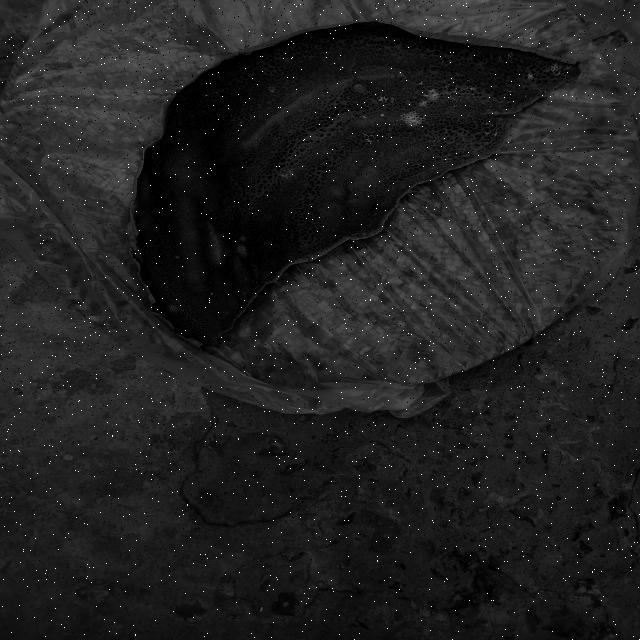injera_mold: (400, 111, 428, 128), (423, 87, 441, 104), (361, 132, 379, 147), (546, 63, 568, 74), (278, 169, 295, 180), (165, 304, 180, 314), (416, 101, 428, 110), (526, 72, 536, 82), (266, 85, 276, 95), (376, 96, 388, 103), (396, 72, 406, 78), (491, 132, 500, 138), (506, 52, 514, 58), (484, 130, 490, 136), (445, 83, 451, 89), (386, 127, 392, 133), (210, 292, 215, 298), (418, 81, 424, 86), (454, 86, 457, 96), (566, 65, 572, 70), (218, 89, 225, 93), (442, 92, 449, 96), (362, 115, 368, 119), (469, 86, 475, 90), (449, 96, 455, 100), (453, 104, 458, 108), (148, 296, 154, 299), (498, 56, 502, 60), (524, 94, 528, 98), (533, 56, 537, 60), (198, 90, 203, 93), (380, 114, 385, 117), (204, 94, 208, 97), (238, 122, 242, 125), (210, 89, 216, 91), (544, 90, 547, 94), (466, 79, 470, 82), (214, 92, 219, 94), (379, 125, 382, 128), (489, 105, 492, 108), (460, 80, 463, 83), (175, 256, 179, 258), (461, 89, 465, 91), (526, 57, 529, 59), (455, 98, 458, 100), (486, 122, 488, 125), (508, 91, 512, 92), (456, 101, 458, 103), (466, 87, 468, 89), (301, 64, 303, 65), (299, 66, 300, 68), (301, 68, 302, 70), (294, 64, 294, 65)
